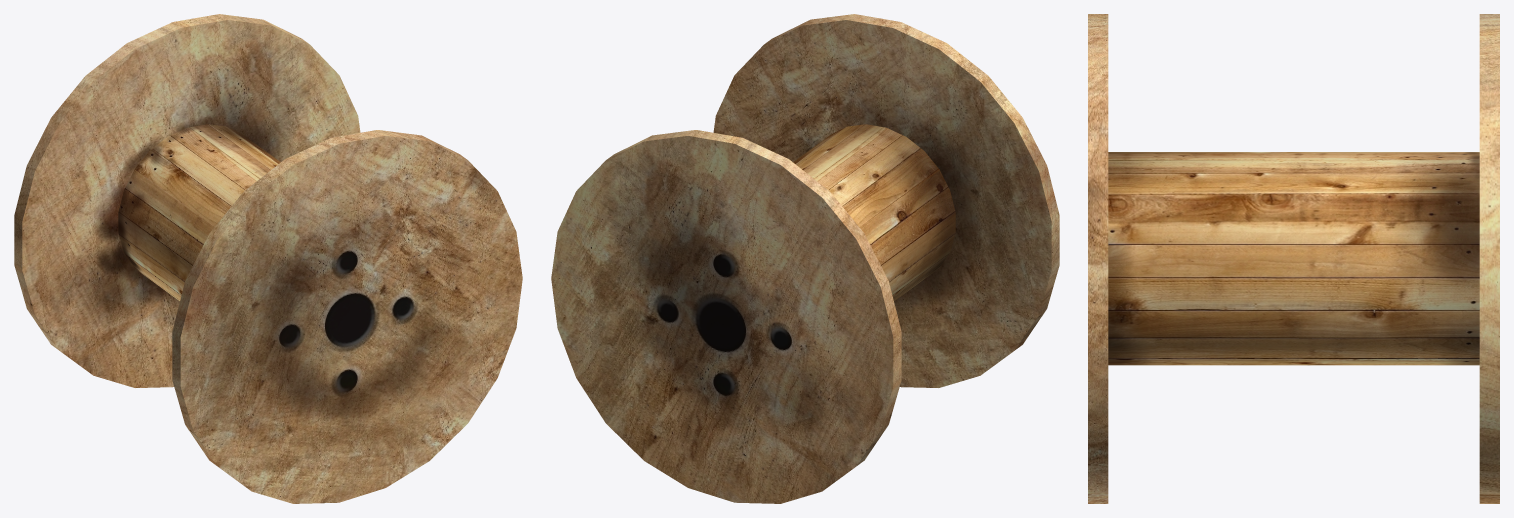
Rendered from cablereel.FBX.
The picture shows the model from 3 angles, left to right: view 1: azimuth 30°, elevation 25°; view 2: azimuth 150°, elevation 25°; view 3: azimuth 270°, elevation 25°; orthographic projection. The views are drawn at different scales.
Parts seen in each view (by area): view 1: Cylinder001; view 2: Cylinder001; view 3: Cylinder001.
Boxes of the visible parts, bbox=[...] form: Cylinder001: bbox=[14, 14, 522, 503]; Cylinder001: bbox=[551, 14, 1059, 503]; Cylinder001: bbox=[1088, 14, 1499, 503].
Size of the model in its own units: 129 by 130 by 109.
